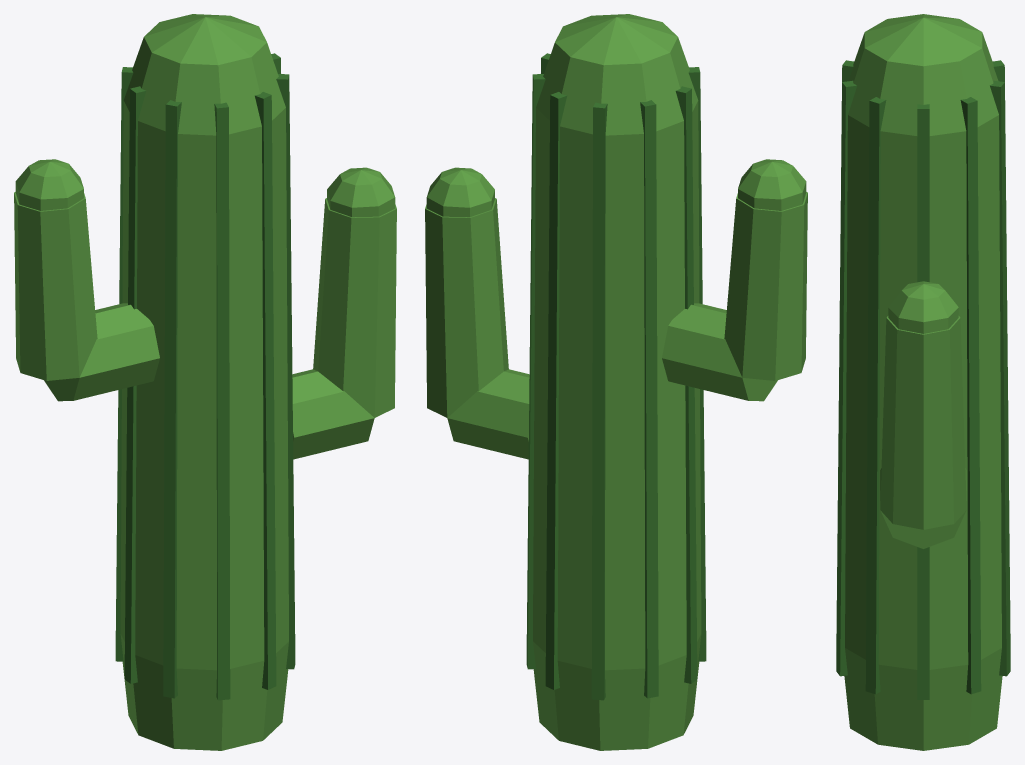
Rendered from map3_cactus_a_v01.glb.
3 views of the same model, side by side, from view 1: azimuth 30°, elevation 25°; view 2: azimuth 150°, elevation 25°; view 3: azimuth 270°, elevation 25° (orthographic).
Visible parts, largest first — view 1: cactus; view 2: cactus; view 3: cactus.
Part boxes in pixels (x1,y1,x2,y2): cactus: (14, 14, 396, 750); cactus: (425, 14, 807, 750); cactus: (836, 14, 1010, 750).
Size of the model in its own units: 1.4 by 2.5 by 0.564.
